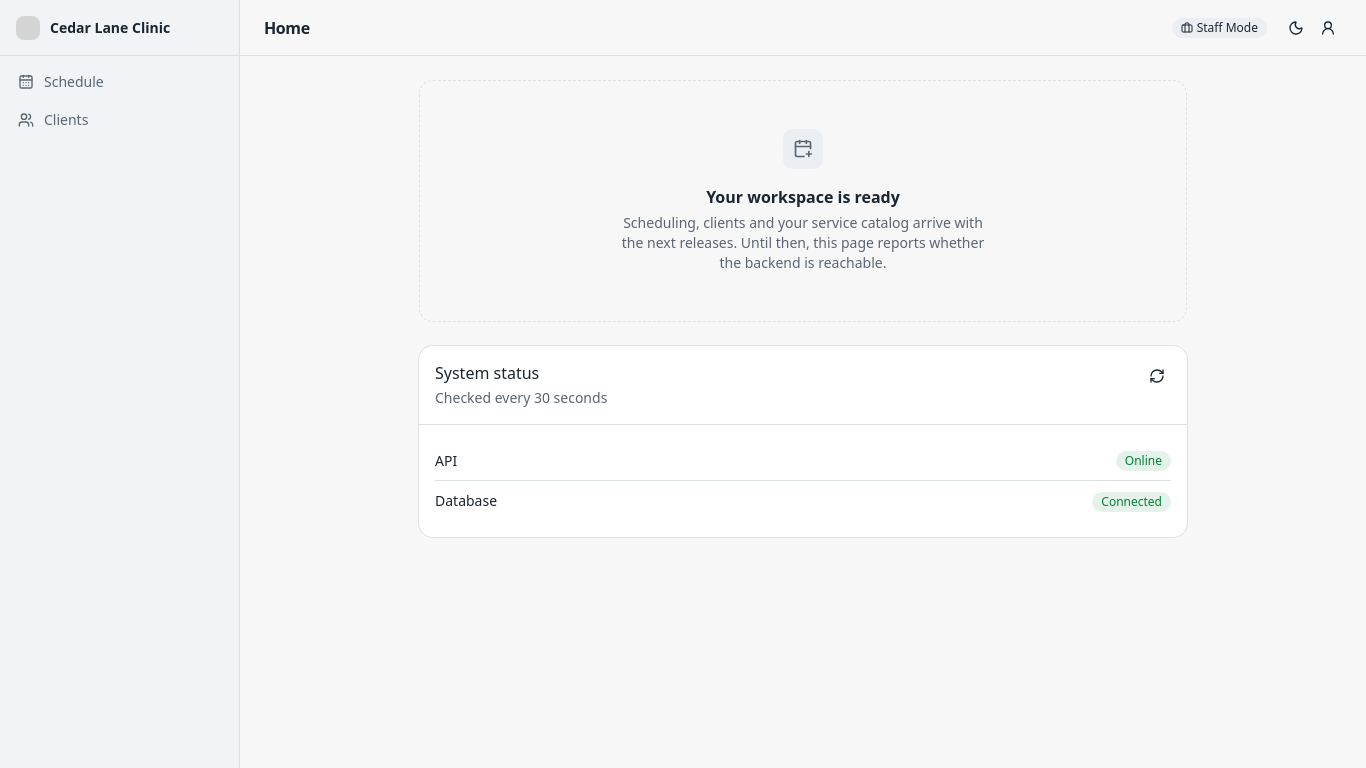
Test: entering Admin Mode with no window open asks for the password
The width and height of the screenshot is (1366, 768).
Step 1. Click the button with aria-label "Switch mode" → click(1219, 28), box x1=1161 y1=14 x2=1278 y2=42
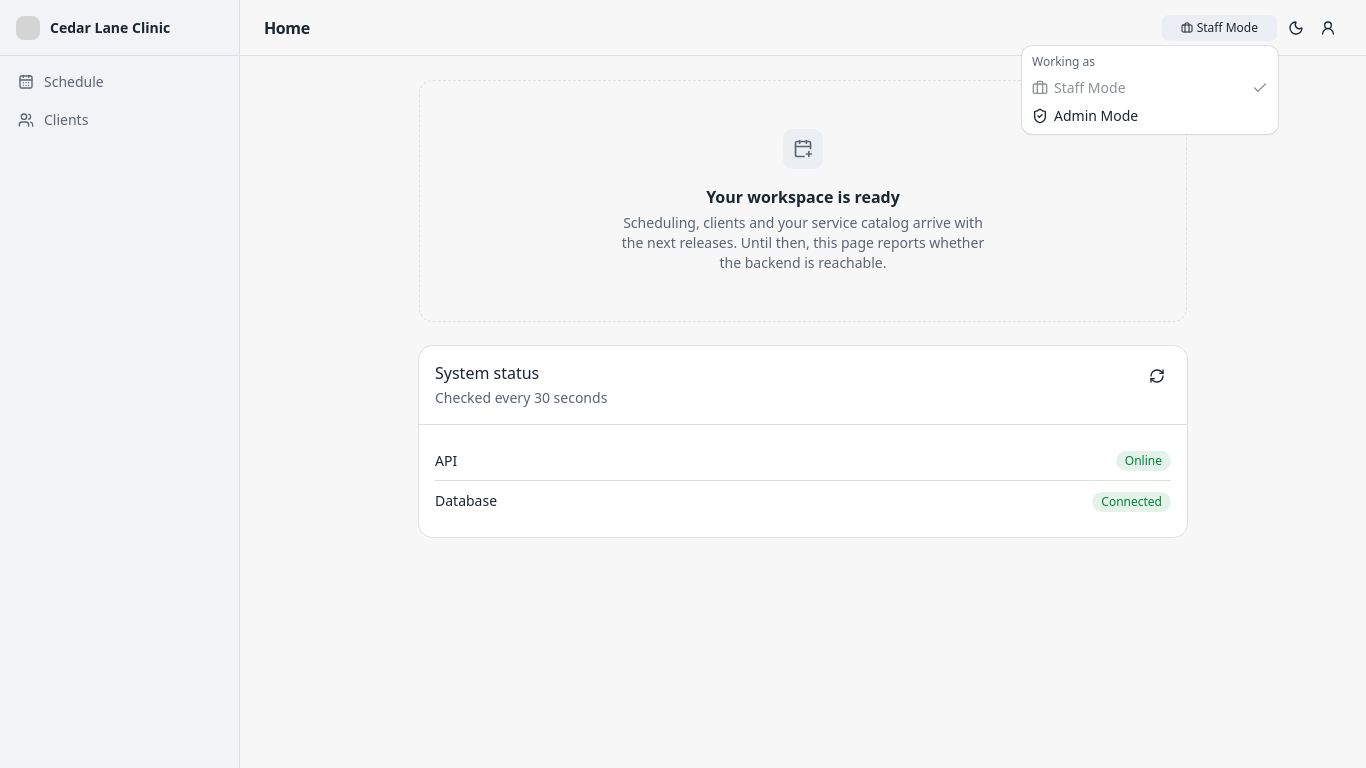
Step 2. Click the menu item "Admin Mode" → click(1085, 116), box x1=1032 y1=106 x2=1138 y2=125
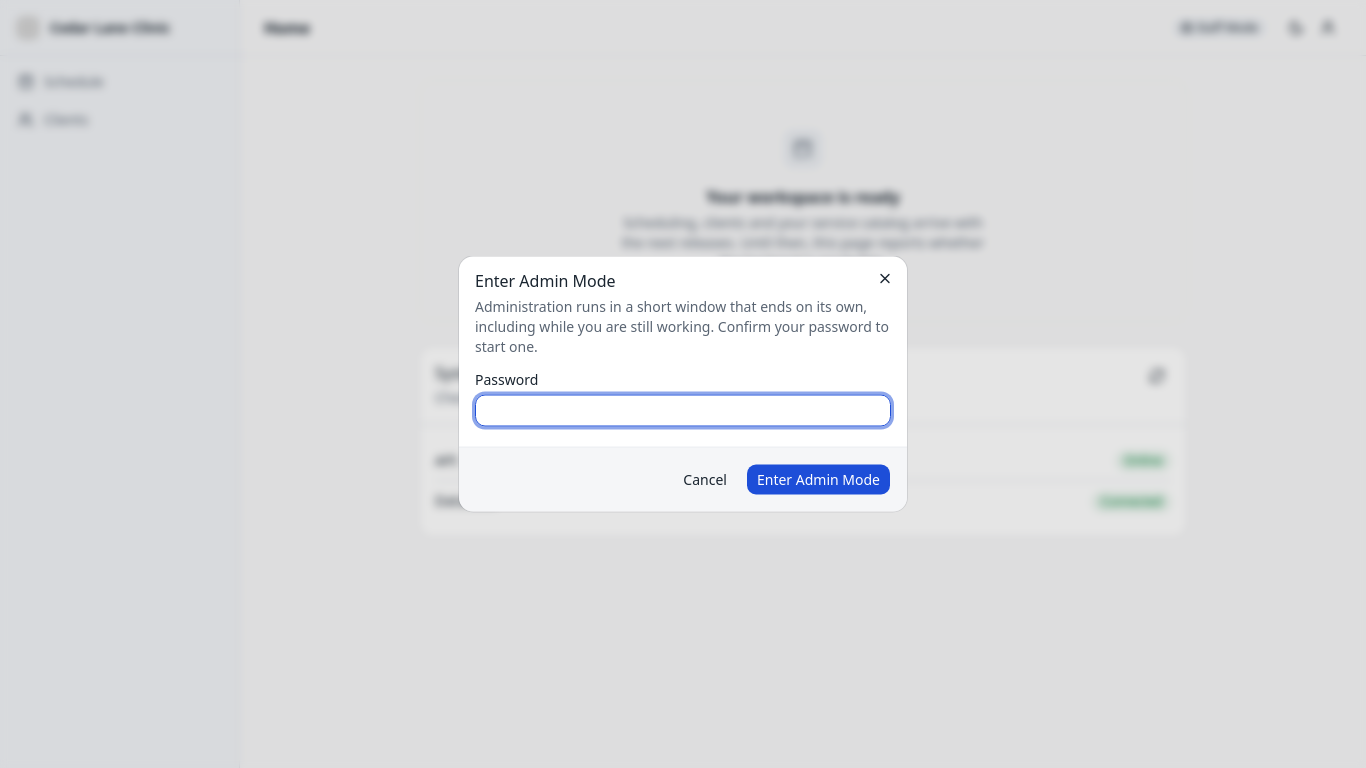
Expected: the dialog shows "Enter Admin Mode", x1=475 y1=270 x2=616 y2=292
Step 3. Type "not the password" into the password field labelled "Password" → (683, 410), box x1=475 y1=394 x2=891 y2=426
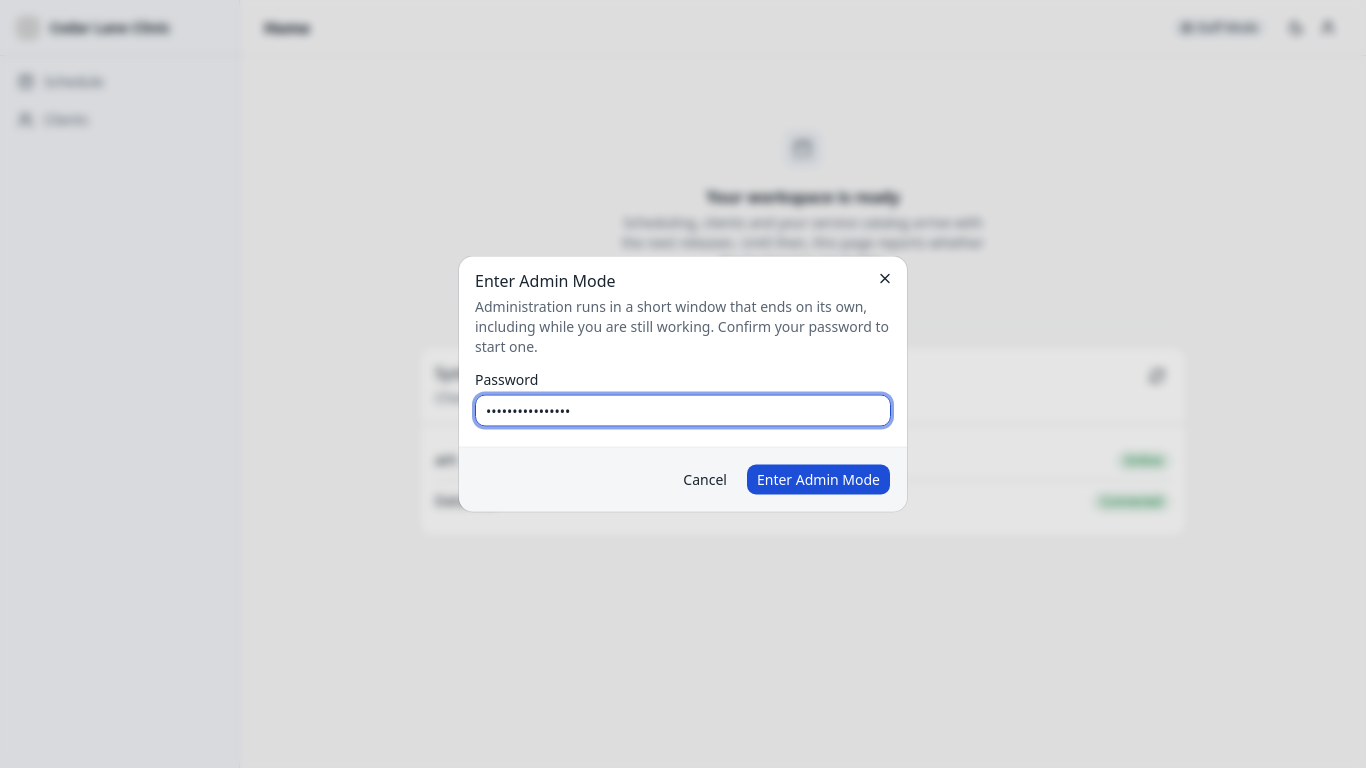
Step 4. Click the button "Enter Admin Mode" → click(818, 480), box x1=746 y1=464 x2=891 y2=496
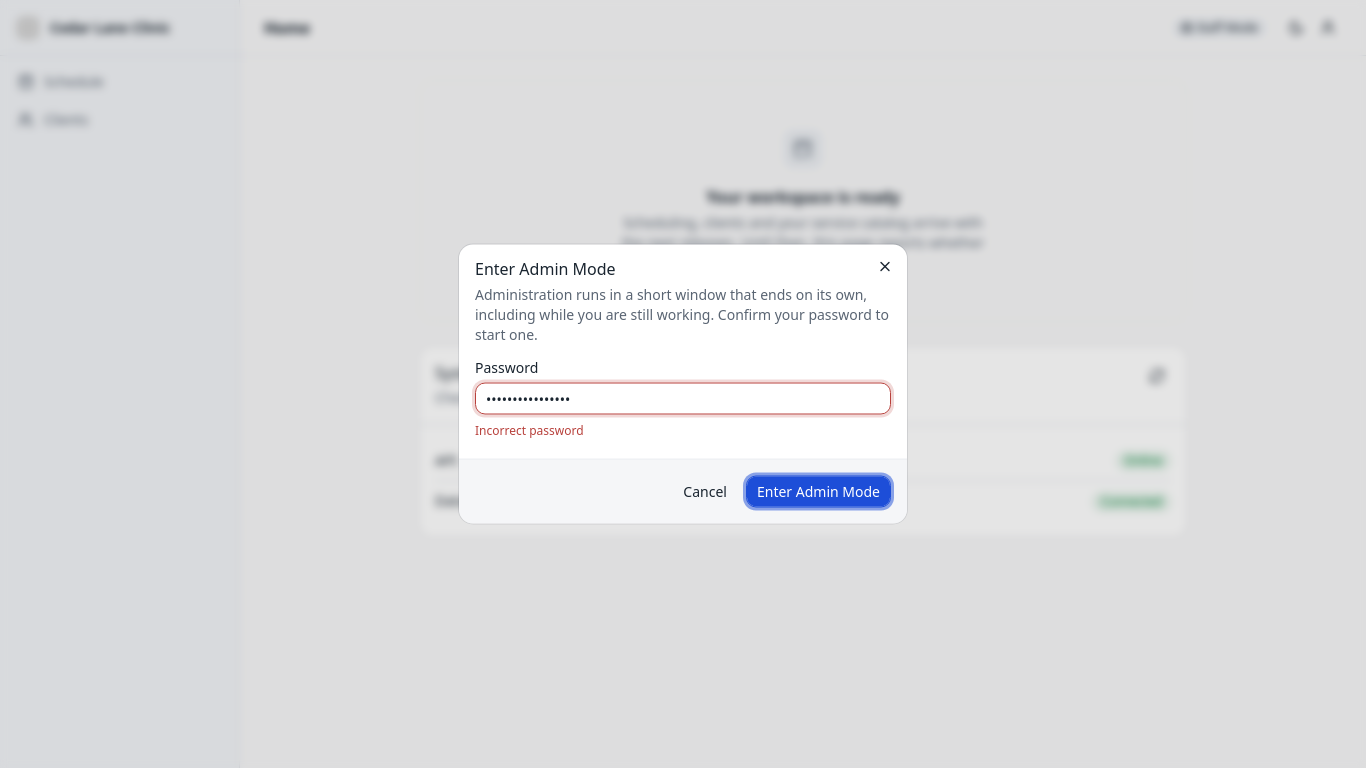
Expected: the text "Incorrect password" is shown, x1=475 y1=422 x2=584 y2=438
Step 5. Type "correct horse battery" into the password field labelled "Password" → (683, 398), box x1=475 y1=382 x2=891 y2=414
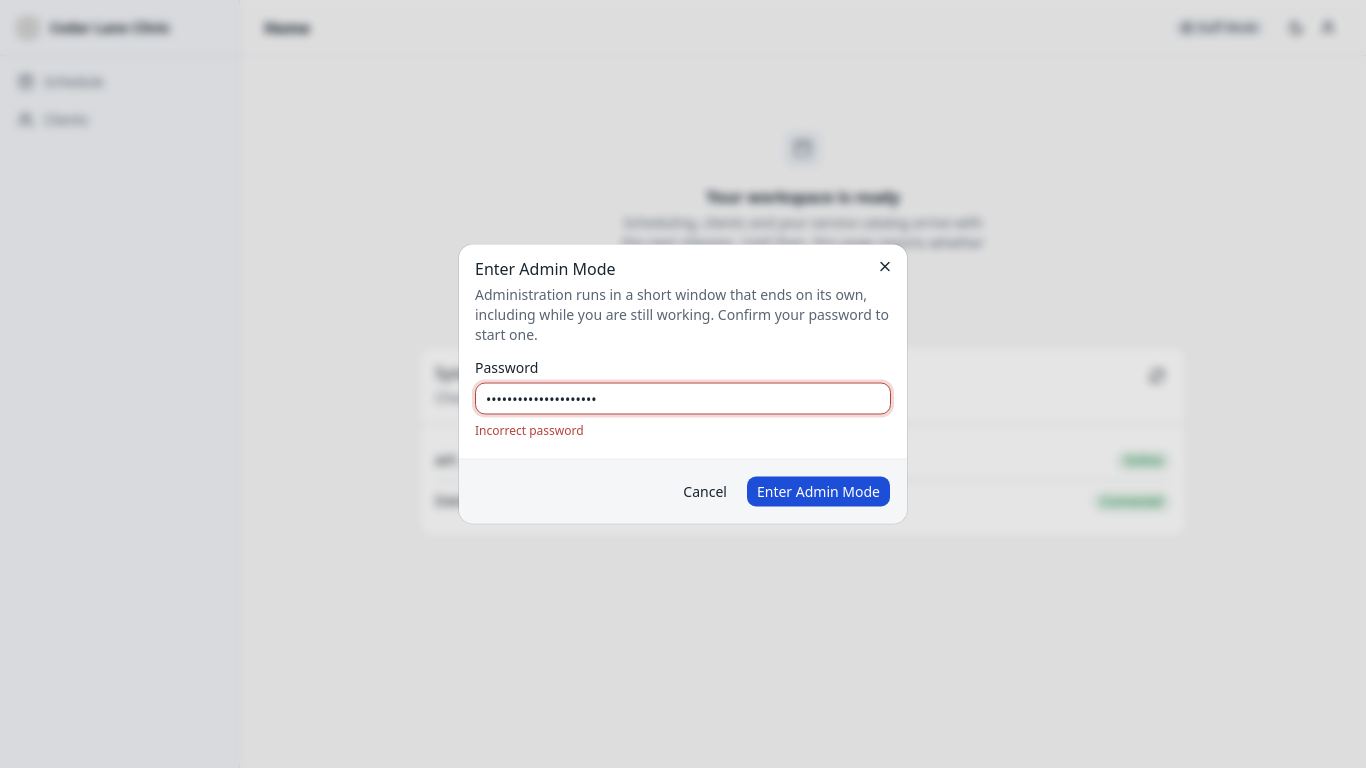
Step 6. Click the button "Enter Admin Mode" → click(818, 492), box x1=746 y1=476 x2=891 y2=508
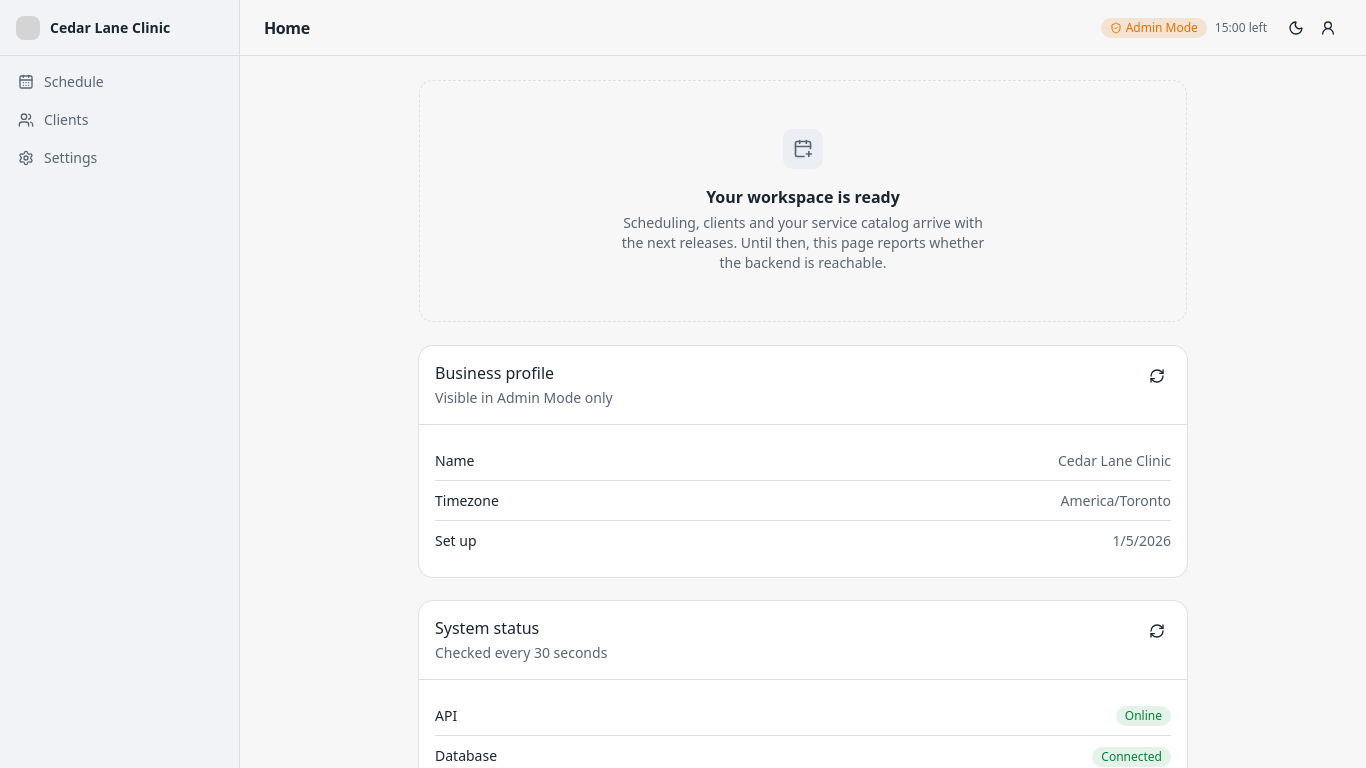
Expected: the dialog is gone
Expected: the button with aria-label "Switch mode" shows "Admin Mode", x1=1090 y1=14 x2=1278 y2=42
Expected: the text "Business profile" is shown, x1=435 y1=362 x2=554 y2=384
